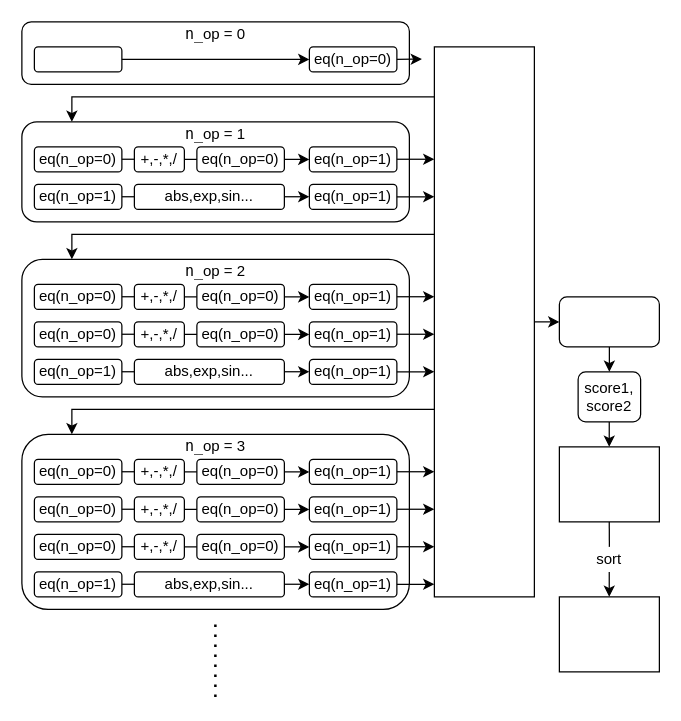
Image size: 681x721. Some labels were removed from this diagram. Here are the shapes that lost their labels. From the top down, the box of each, then its label:
(33, 46, 122, 72): base data
(433, 46, 534, 597): save data
(558, 296, 659, 347): model_score
(558, 446, 659, 522): scores
(558, 596, 659, 672): ans
